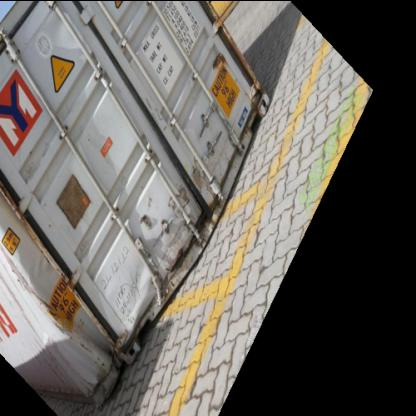Damage: (5, 216, 111, 384), (119, 140, 205, 257), (112, 276, 144, 326), (203, 32, 225, 70)
